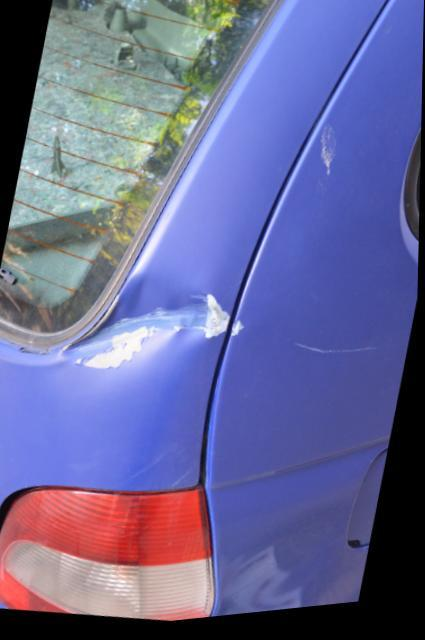dent: (69, 280, 217, 367)
